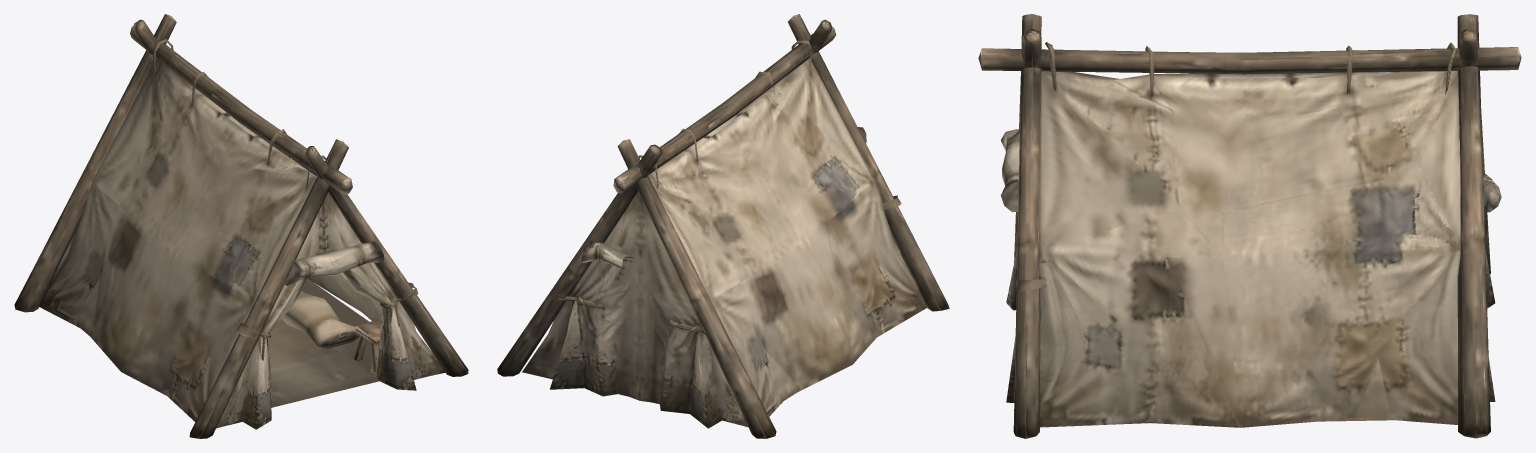
Rendered from prop_tent.glb.
The picture shows the model from 3 angles, left to right: view 1: azimuth 30°, elevation 25°; view 2: azimuth 150°, elevation 25°; view 3: azimuth 270°, elevation 25°; orthographic projection. The views are drawn at different scales.
Size of the model in its own units: 2.91 by 2.6 by 3.86.
1 material, 1 textured.
